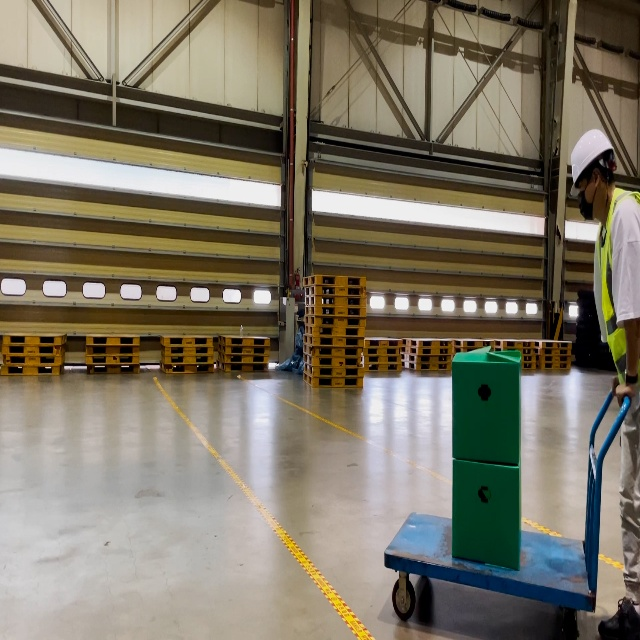Box: (451, 449, 522, 572), (451, 345, 522, 466)
Worker: (570, 128, 640, 640)
